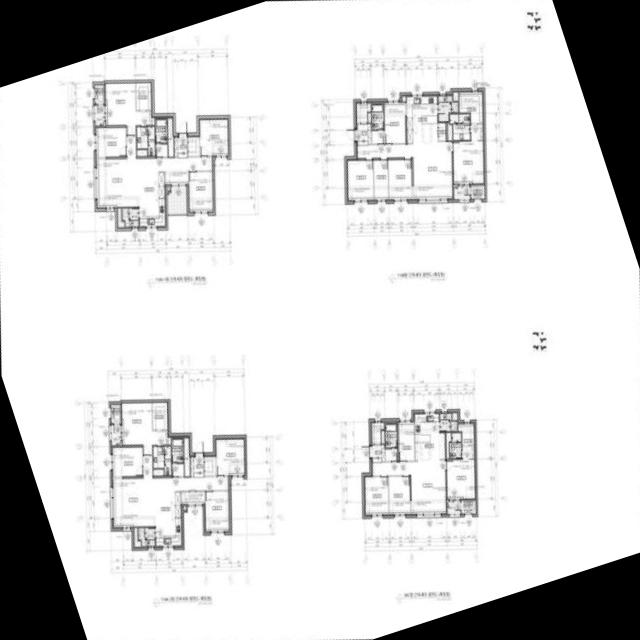background: (0, 0, 640, 640)
space_balconi: (167, 188, 186, 214), (121, 208, 138, 226), (440, 413, 457, 431), (138, 528, 154, 546), (453, 187, 470, 199), (94, 105, 104, 125), (111, 425, 120, 445), (447, 501, 460, 514)
space_bedroom: (105, 83, 151, 135), (121, 403, 167, 455), (453, 124, 484, 184), (446, 459, 474, 499), (199, 119, 228, 156), (347, 160, 373, 200), (216, 438, 244, 475), (188, 171, 213, 211), (205, 491, 229, 531), (388, 160, 412, 199), (112, 447, 142, 477), (96, 128, 126, 157), (365, 477, 388, 514), (384, 103, 405, 143), (388, 476, 410, 514)
space_dressroom: (459, 92, 483, 123), (152, 402, 167, 430), (136, 83, 151, 110), (458, 424, 473, 445)
space_front: (355, 124, 371, 145), (190, 455, 204, 477), (174, 137, 187, 158), (372, 445, 384, 462)
space_kitchen: (406, 96, 437, 143), (414, 414, 444, 461), (138, 172, 164, 226), (155, 492, 181, 546)
space_living_room: (96, 136, 212, 207), (113, 456, 229, 527), (356, 142, 452, 199), (372, 460, 445, 513)
space_other: (398, 422, 414, 461), (373, 160, 388, 199), (164, 171, 188, 184), (181, 491, 204, 504), (356, 103, 370, 123), (371, 423, 384, 444), (167, 118, 173, 156), (188, 137, 199, 156), (204, 456, 215, 475), (184, 438, 189, 476), (462, 445, 474, 459), (372, 131, 384, 144), (155, 144, 167, 157), (385, 449, 397, 461), (117, 208, 124, 228), (172, 464, 183, 476), (438, 123, 445, 140), (134, 528, 140, 546), (446, 433, 450, 459), (447, 123, 452, 140), (453, 91, 458, 101), (381, 431, 384, 443), (452, 413, 457, 420), (368, 113, 370, 122), (152, 117, 154, 125), (402, 96, 405, 101), (168, 437, 170, 444), (183, 506, 186, 510), (167, 187, 169, 190)
space_outdoor_room: (470, 185, 484, 199), (94, 85, 104, 104), (110, 404, 120, 423), (461, 501, 475, 514)
space_toilet: (449, 114, 470, 140), (136, 126, 154, 156), (153, 446, 171, 476), (438, 96, 458, 122), (371, 104, 383, 129), (171, 438, 183, 463), (449, 433, 461, 458), (155, 119, 167, 143), (385, 424, 397, 447)
